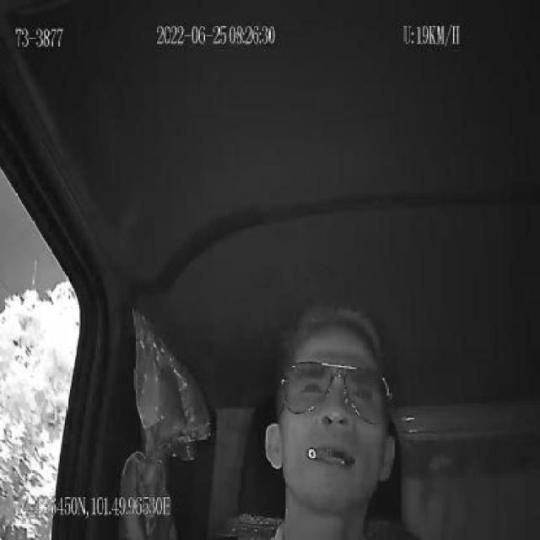smoking: (305, 441, 336, 462)
